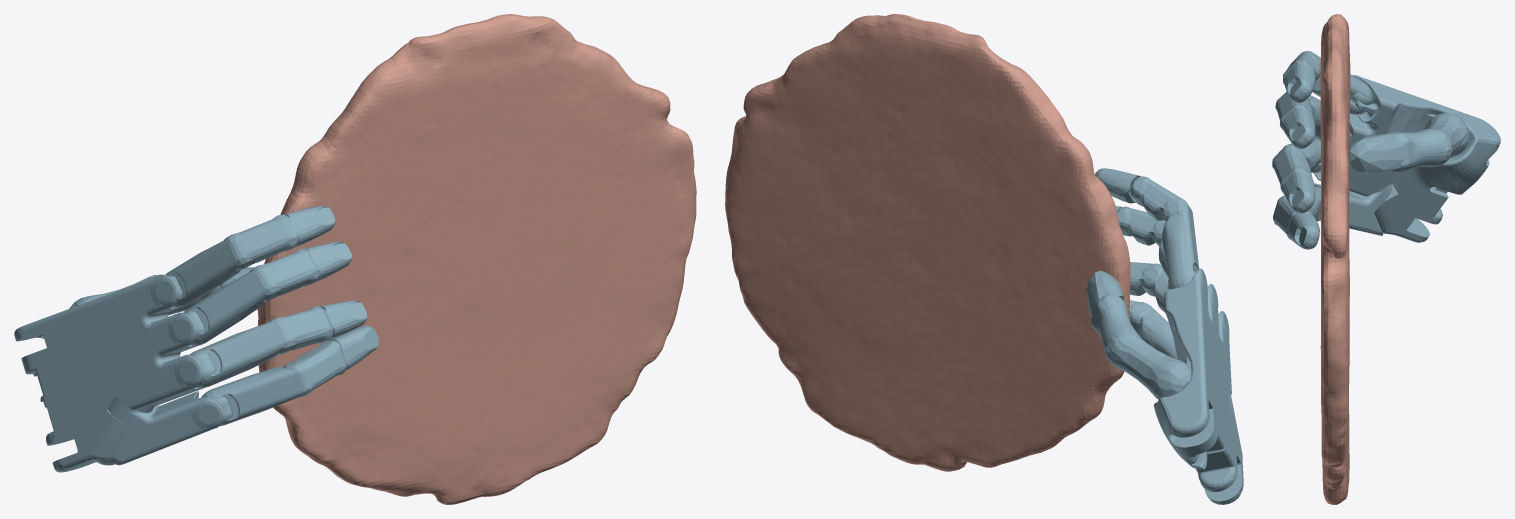
Rendered from 7_joint.glb.
3 renders of one model, left to right at view 1: azimuth 30°, elevation 25°; view 2: azimuth 150°, elevation 25°; view 3: azimuth 270°, elevation 25°, orthographic. The views are drawn at different scales.
Visible parts, largest first — view 1: world; view 2: world; view 3: world.
Boxes of the visible parts, left/top/right/bottom form: world: left=14, top=14, right=696, bottom=504; world: left=725, top=14, right=1243, bottom=504; world: left=1272, top=14, right=1500, bottom=504.
Bounding box in the file's own units: 2.38 × 1.82 × 0.8561.
